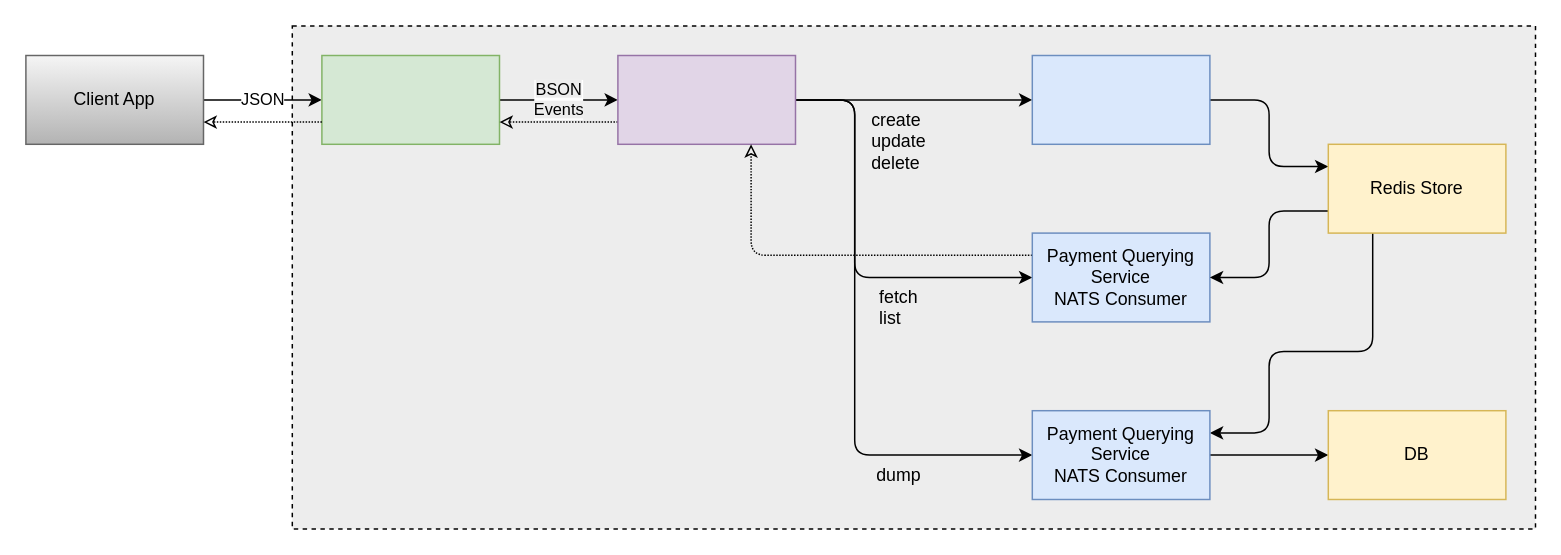
This 1561x555 diagram has some shape labels left out. The shapes that lost their labels are listed below. From the top down, each one's centre as x and y in pixels, then its label:
point 410,99: REST API NATS Producer
point 706,99: NATS Server
point 1120,99: Payment Processing Service NATS Consumer
